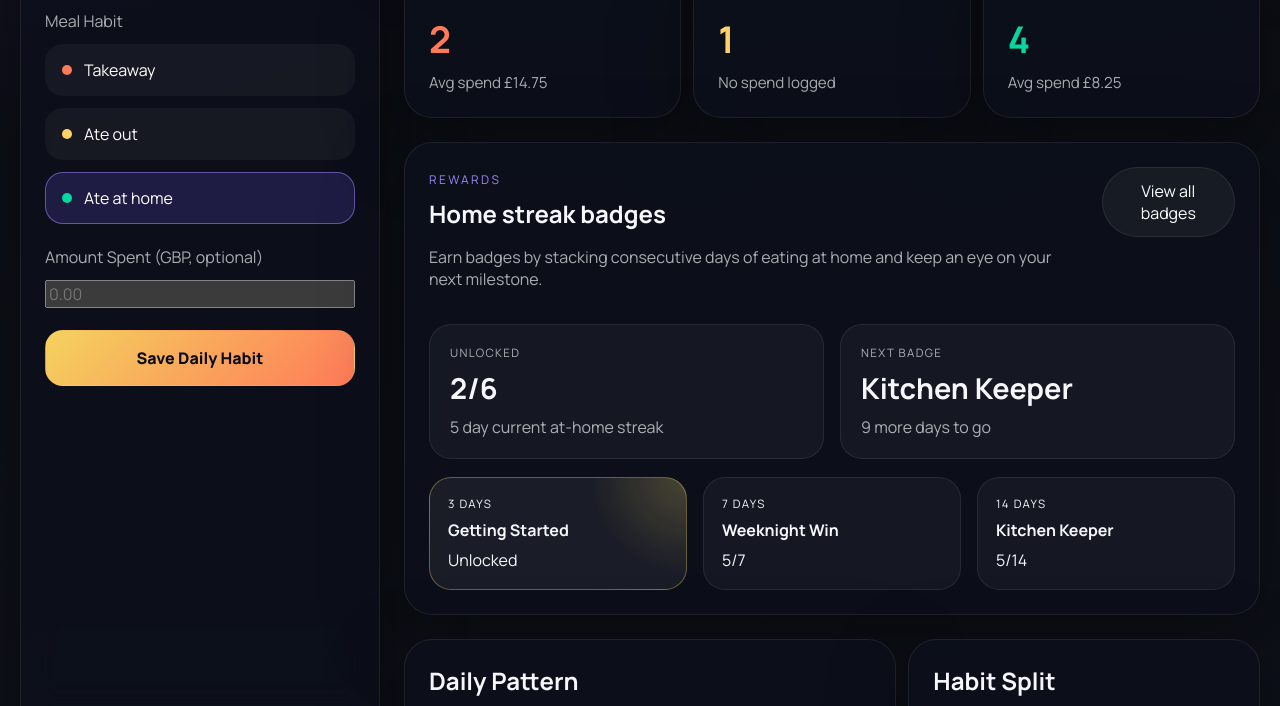
Test: App › shows an error when saving fails
(page scrolled)
Click the button "Save Daily Habit".
click(200, 358)  # box [45,330,355,386]
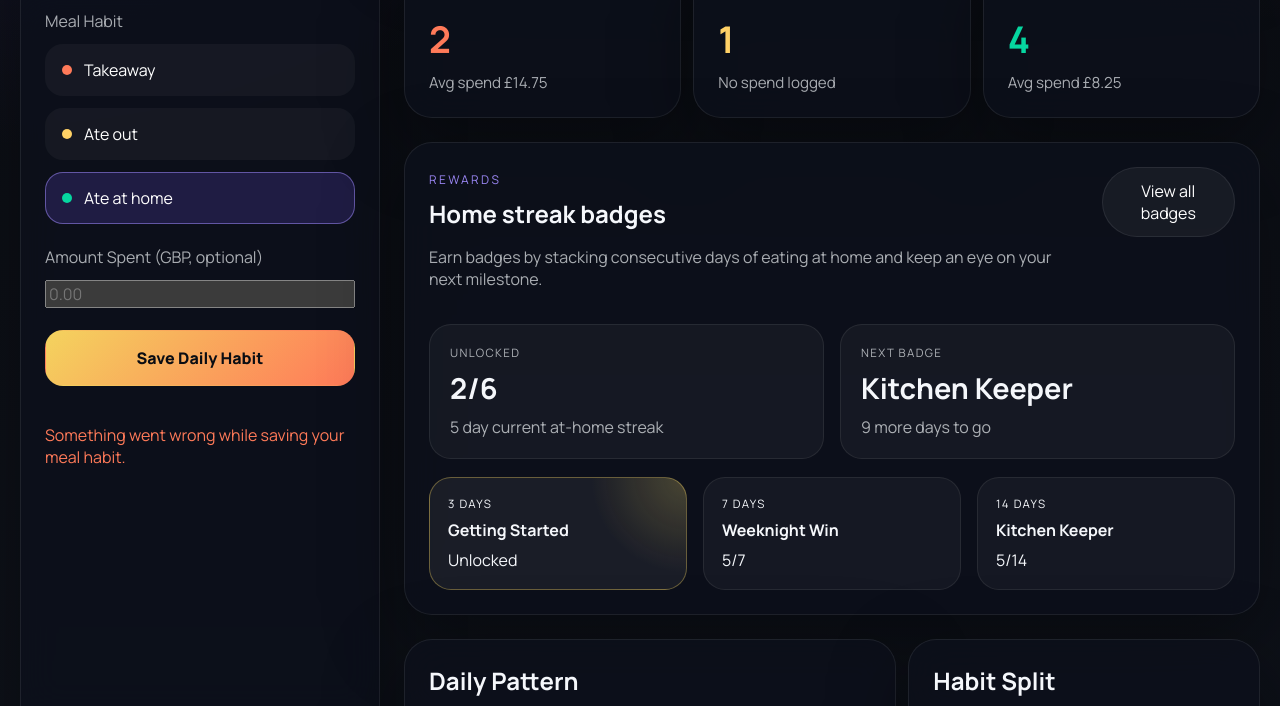
Expected: the text "Something went wrong while saving your meal habit." is shown, [45,424,355,468]
